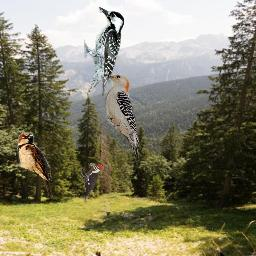Swallow: (17, 132, 52, 199)
Woodpecker: (99, 68, 144, 165), (84, 6, 124, 97), (79, 163, 104, 204)
